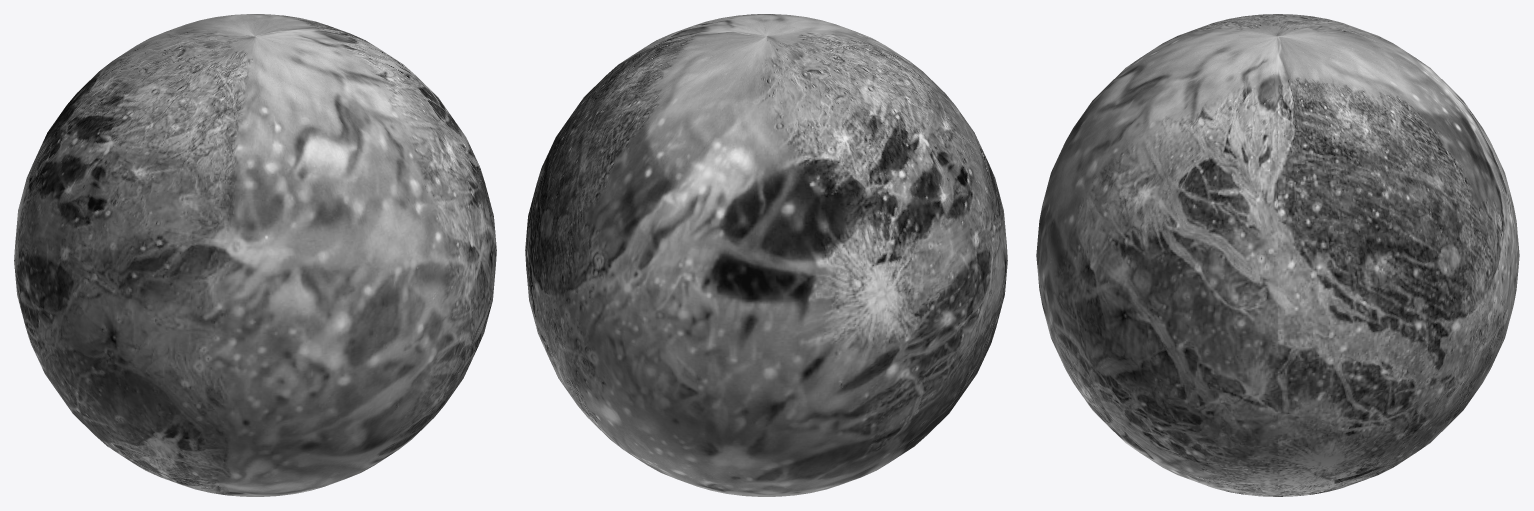
The model's file is ganymede.glb.
3 renders of one model, left to right at view 1: azimuth 30°, elevation 25°; view 2: azimuth 150°, elevation 25°; view 3: azimuth 270°, elevation 25°, orthographic.
Size of the model in its own units: 2 by 2 by 2.
1 material, 1 textured.
